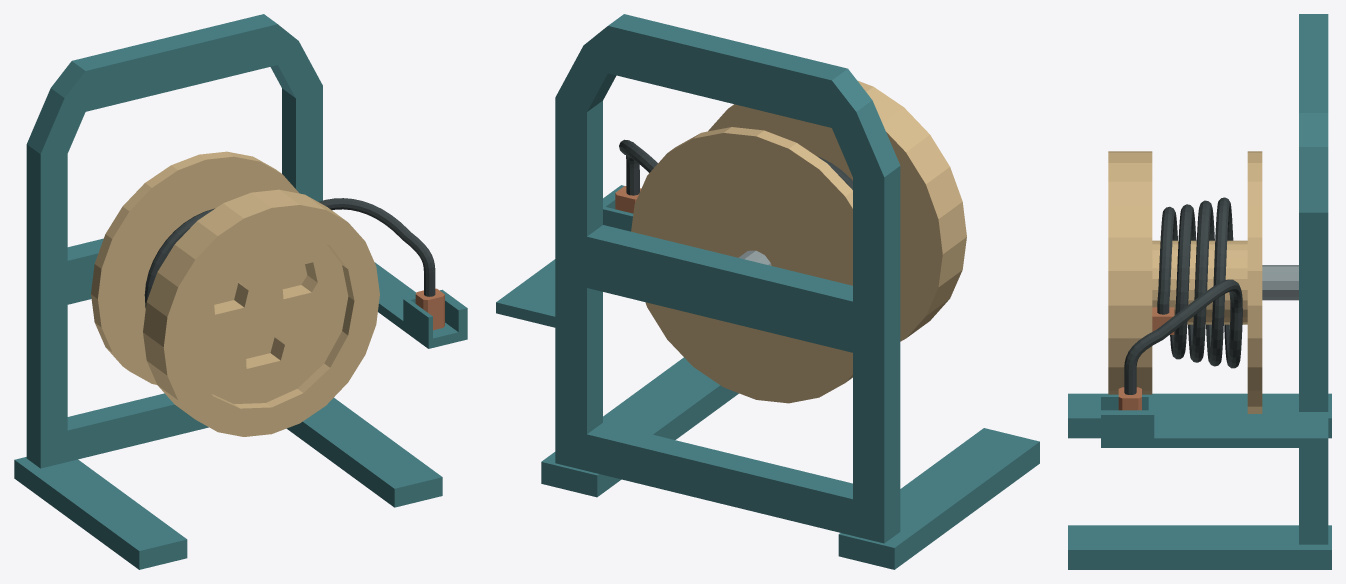
3 views of the same model, side by side, from view 1: azimuth 30°, elevation 25°; view 2: azimuth 150°, elevation 25°; view 3: azimuth 270°, elevation 25° (orthographic). The views are drawn at different scales.
Visible parts, largest first — view 1: IntegralRecessedThreePortDrum, WholeContinuousCarryFrame, LongGroundShoe_Left, LongGroundShoe_Right, OpenSideTailTray, OneContinuousFourTurnCable, SolidParkedTailHead; view 2: WholeContinuousCarryFrame, IntegralRecessedThreePortDrum, LongGroundShoe_Left, LongGroundShoe_Right, OpenSideTailTray, OneContinuousFourTurnCable; view 3: IntegralRecessedThreePortDrum, WholeContinuousCarryFrame, LongGroundShoe_Right, OneContinuousFourTurnCable, OpenSideTailTray, LongGroundShoe_Left, FixedHorizontalAxle, SolidParkedTailHead.
Boxes of the visible parts, x1=… form: IntegralRecessedThreePortDrum: x1=91, y1=151, x2=379, y2=436; WholeContinuousCarryFrame: x1=26, y1=14, x2=322, y2=468; LongGroundShoe_Left: x1=14, y1=457, x2=187, y2=569; LongGroundShoe_Right: x1=286, y1=398, x2=442, y2=507; OpenSideTailTray: x1=374, y1=262, x2=467, y2=348; OneContinuousFourTurnCable: x1=144, y1=198, x2=435, y2=308; SolidParkedTailHead: x1=415, y1=288, x2=444, y2=330; WholeContinuousCarryFrame: x1=555, y1=14, x2=900, y2=543; IntegralRecessedThreePortDrum: x1=631, y1=80, x2=966, y2=403; LongGroundShoe_Left: x1=838, y1=428, x2=1039, y2=569; LongGroundShoe_Right: x1=541, y1=357, x2=738, y2=497; OpenSideTailTray: x1=496, y1=185, x2=633, y2=327; OneContinuousFourTurnCable: x1=619, y1=139, x2=852, y2=195; IntegralRecessedThreePortDrum: x1=1108, y1=151, x2=1262, y2=413; WholeContinuousCarryFrame: x1=1299, y1=14, x2=1328, y2=544; LongGroundShoe_Right: x1=1068, y1=525, x2=1331, y2=569; OneContinuousFourTurnCable: x1=1124, y1=197, x2=1242, y2=394; OpenSideTailTray: x1=1101, y1=394, x2=1328, y2=447; LongGroundShoe_Left: x1=1068, y1=393, x2=1331, y2=438; FixedHorizontalAxle: x1=1262, y1=265, x2=1298, y2=300; SolidParkedTailHead: x1=1118, y1=387, x2=1141, y2=410.
Size of the model in its own units: 1.14 by 1.29 by 0.72.
